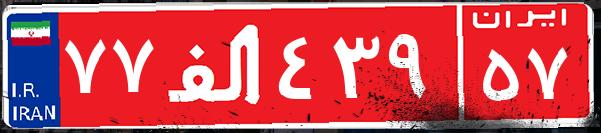3: (330, 28, 385, 110)
4: (273, 28, 330, 110)
5: (475, 38, 525, 113)
7: (57, 26, 110, 107), (110, 28, 158, 105), (525, 38, 570, 115)
9: (385, 28, 445, 110)
الف: (158, 15, 273, 115)
